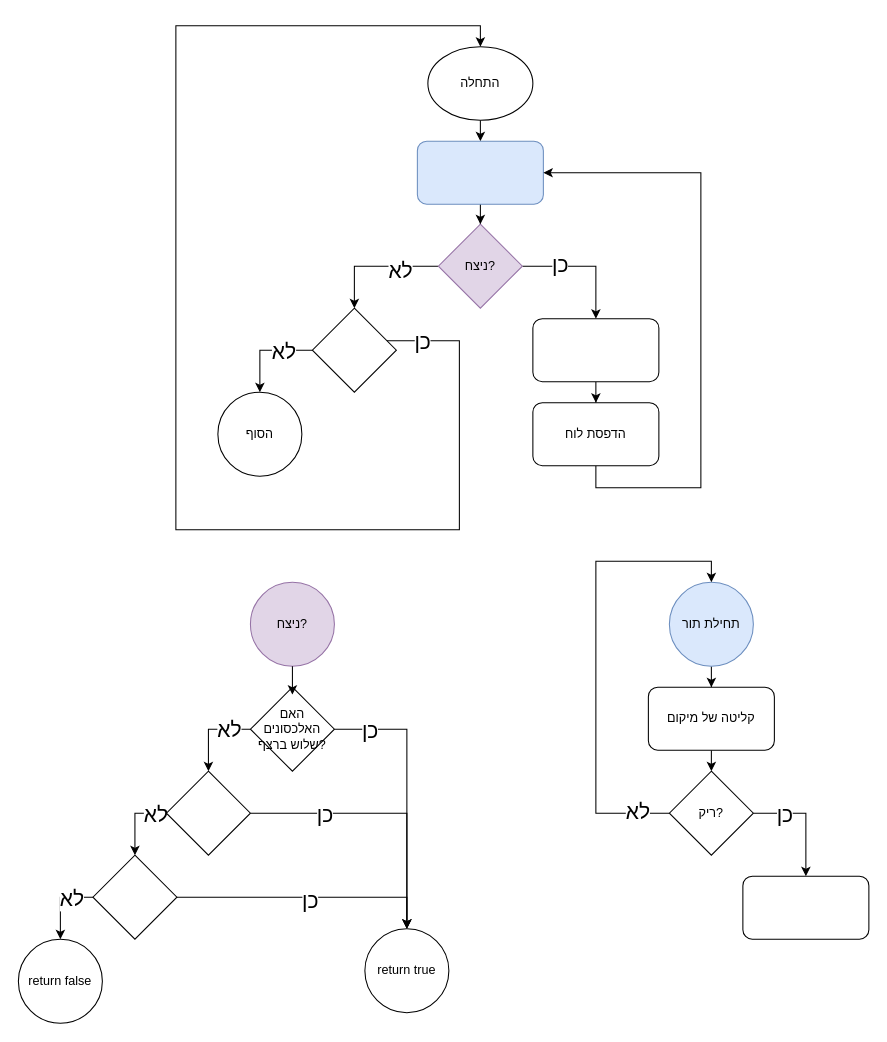
Image size: 887x1042. Some labels were removed from this diagram. The centre of each missing label's shape, as x and y in pixels:
האם לצדדים 3 ברצף?: point (134, 896)
האם מלמעלה למטה 3 ברצף?: point (207, 812)
לשחק שוב?: point (353, 349)
מחיקת תורות ישנים: point (595, 350)
ציור על האותו השטח: point (805, 907)
תור: point (479, 172)
